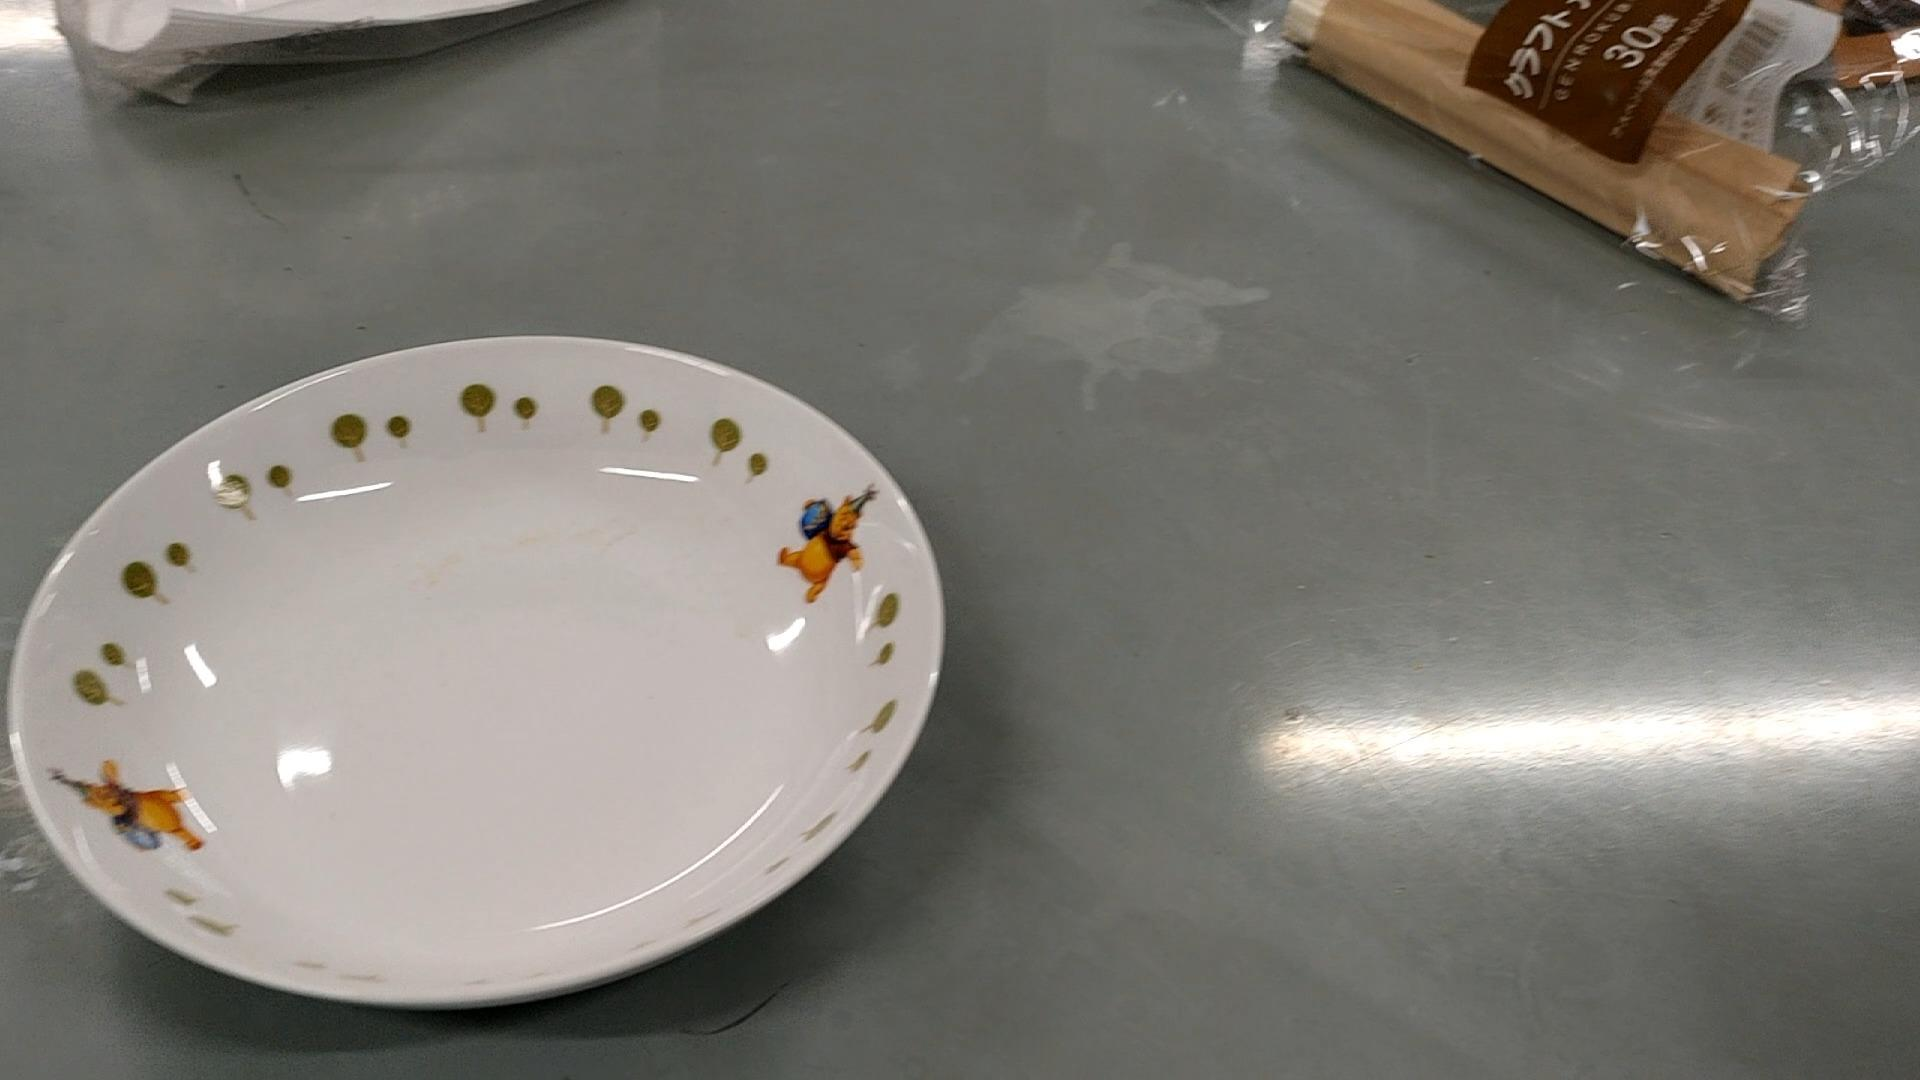plate: (11, 335, 939, 1007)
